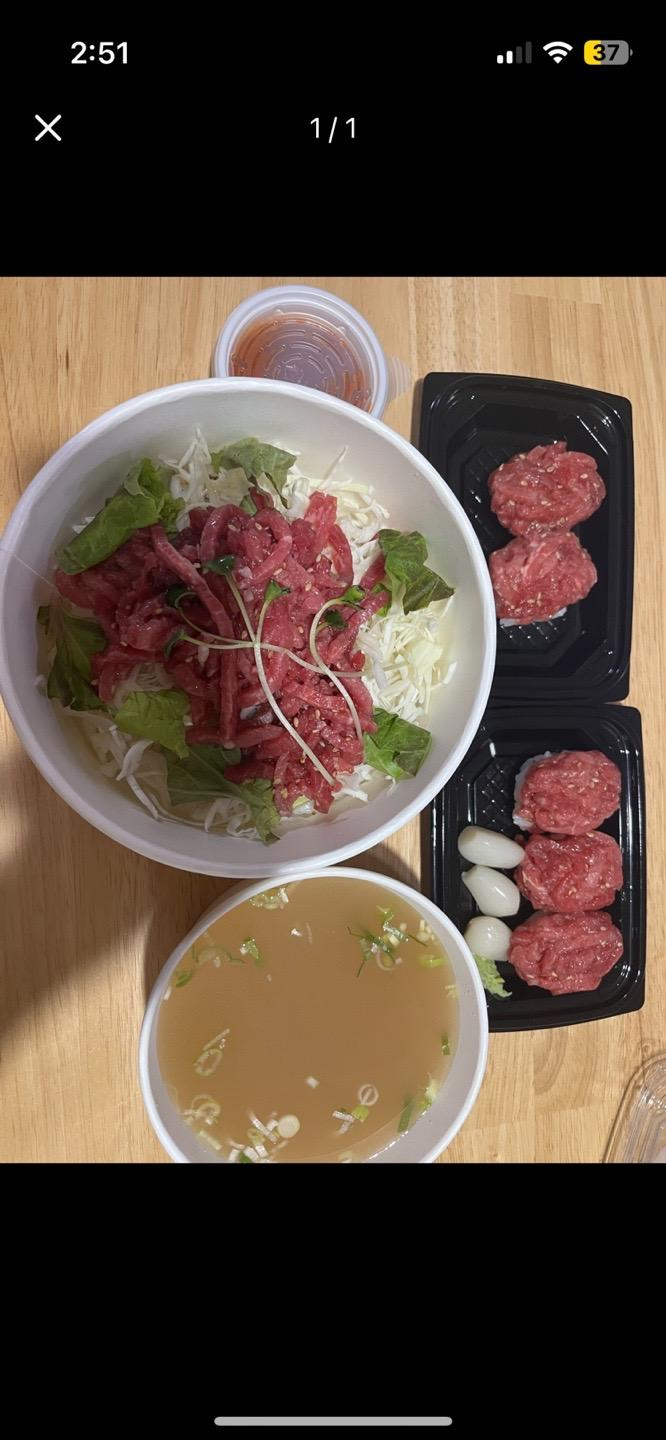Lunch Box: (0, 379, 495, 878), (139, 865, 487, 1163), (420, 373, 633, 702), (432, 705, 645, 1032)
cup: (212, 284, 409, 418)
